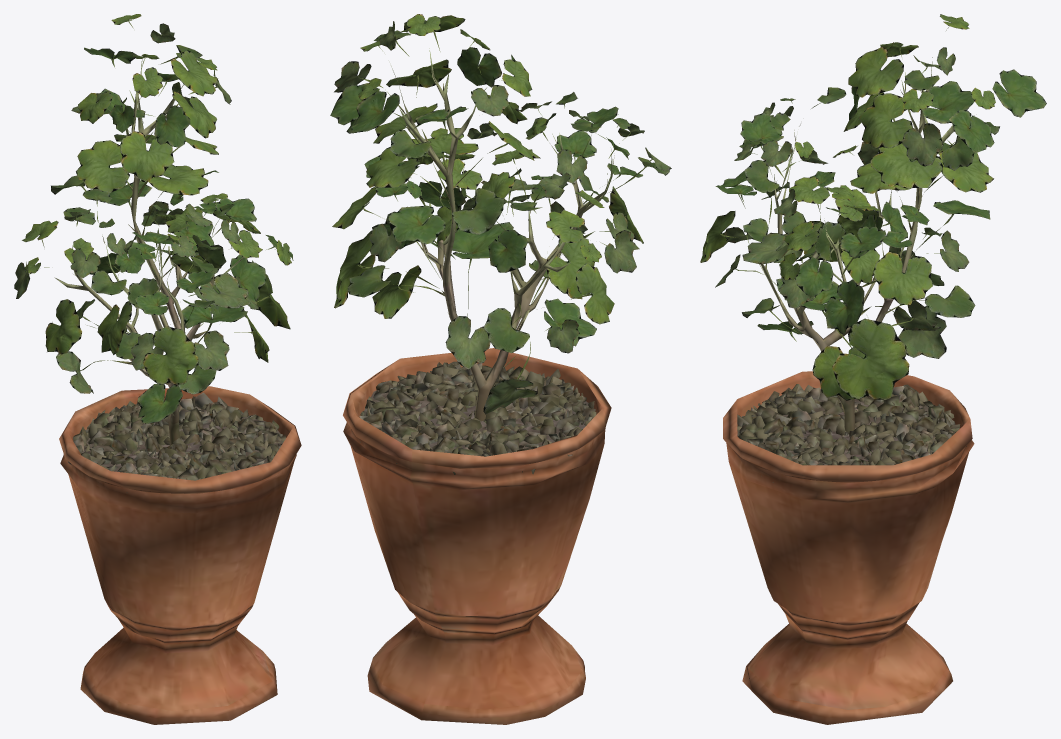
The model's file is potted_plant_01_512.glb.
3 views of the same model, side by side, from view 1: azimuth 30°, elevation 25°; view 2: azimuth 150°, elevation 25°; view 3: azimuth 270°, elevation 25° (orthographic). The views are drawn at different scales.
Parts seen in each view (by area): view 1: potted_plant_01_pot, potted_plant_01_leaves, potted_plant_01_pebbles, potted_plant_01_stem; view 2: potted_plant_01_pot, potted_plant_01_leaves, potted_plant_01_pebbles, potted_plant_01_stem; view 3: potted_plant_01_pot, potted_plant_01_leaves, potted_plant_01_pebbles, potted_plant_01_stem.
Part boxes in pixels (<box>): potted_plant_01_pot: <box>59,386,301,724</box>; potted_plant_01_leaves: <box>14,14,293,423</box>; potted_plant_01_pebbles: <box>68,392,293,492</box>; potted_plant_01_stem: <box>54,57,244,445</box>; potted_plant_01_pot: <box>343,348,611,724</box>; potted_plant_01_leaves: <box>330,14,671,414</box>; potted_plant_01_pebbles: <box>359,361,596,474</box>; potted_plant_01_stem: <box>399,48,612,421</box>; potted_plant_01_pot: <box>723,371,974,724</box>; potted_plant_01_leaves: <box>700,14,1046,400</box>; potted_plant_01_pebbles: <box>737,384,966,482</box>; potted_plant_01_stem: <box>760,57,966,434</box>.
Bounding box in the file's own units: 0.5866 × 1.33 × 0.6336.
Materials: 2 (2 with a texture image).
